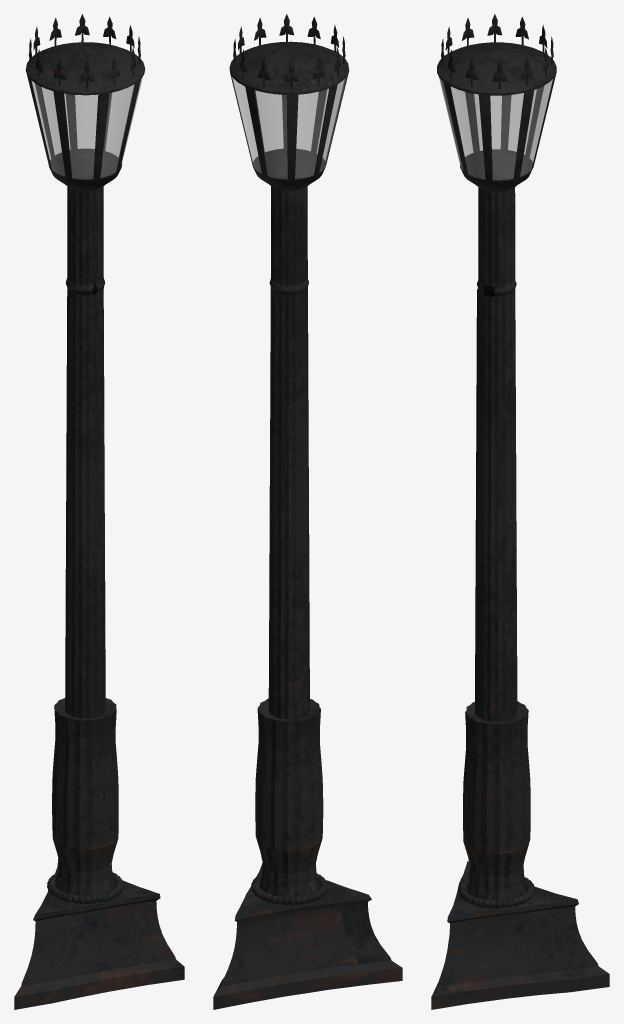
3 views of the same model, side by side, from view 1: azimuth 30°, elevation 25°; view 2: azimuth 150°, elevation 25°; view 3: azimuth 270°, elevation 25° (orthographic).
Parts seen in each view (by area): view 1: Pole_0, Glass1_4; view 2: Pole_0, Glass1_4; view 3: Pole_0, Glass1_4.
Part boxes in pixels (x1=…): Pole_0: x1=14, y1=14, x2=184, y2=1009; Glass1_4: x1=31, y1=76, x2=142, y2=178; Pole_0: x1=213, y1=14, x2=402, y2=1009; Glass1_4: x1=232, y1=77, x2=346, y2=178; Pole_0: x1=431, y1=14, x2=609, y2=1009; Glass1_4: x1=439, y1=77, x2=552, y2=179.
Bounding box in the file's own units: 0.2421 × 1.36 × 0.2339.
2 materials, 1 textured.
